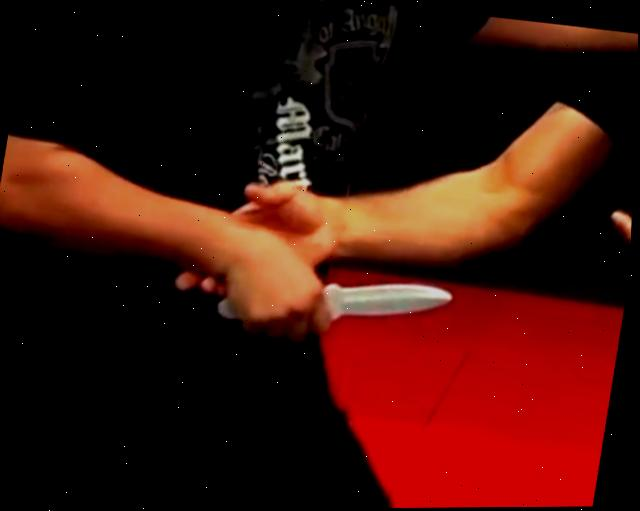pocket-knife: (212, 253, 461, 366)
